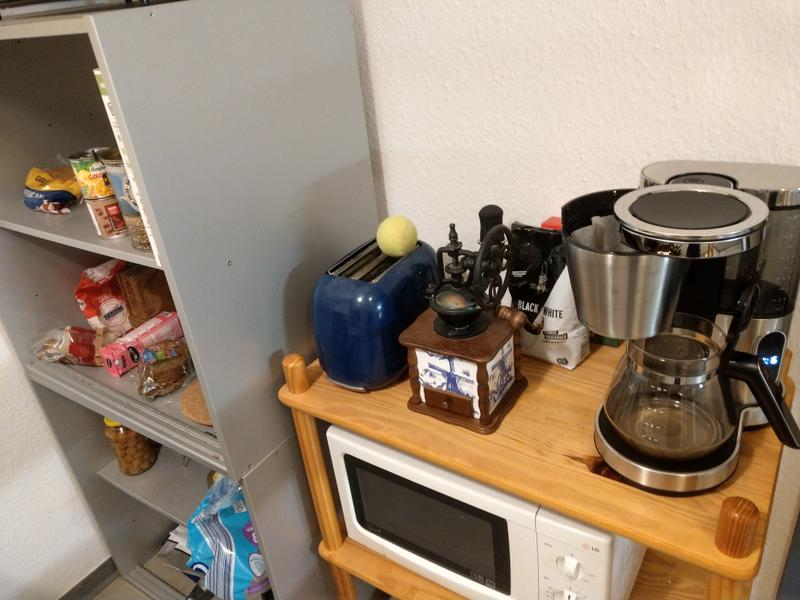Tennisball: (374, 213, 422, 258)
